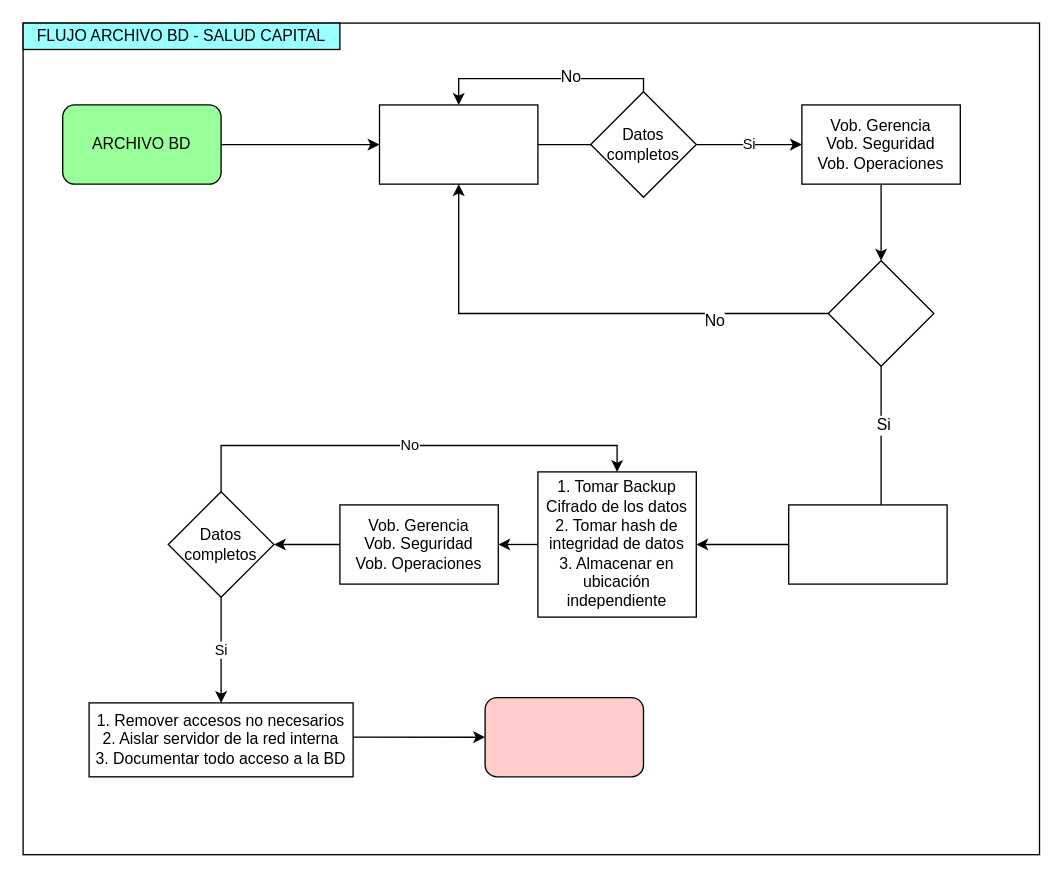
The diagram is 1063 pixels wide and 878 high, and some of its shapes have lost their labels. The shapes that lost their labels are listed below. From the top down, each one's centre as x and y in pixels, then its label:
At [458,144]: "Registro Requerimiento".
At [880,312]: "Aprobado".
At [867,544]: "Enviar requerimiento a DBA".
At [564,736]: "FIN".
